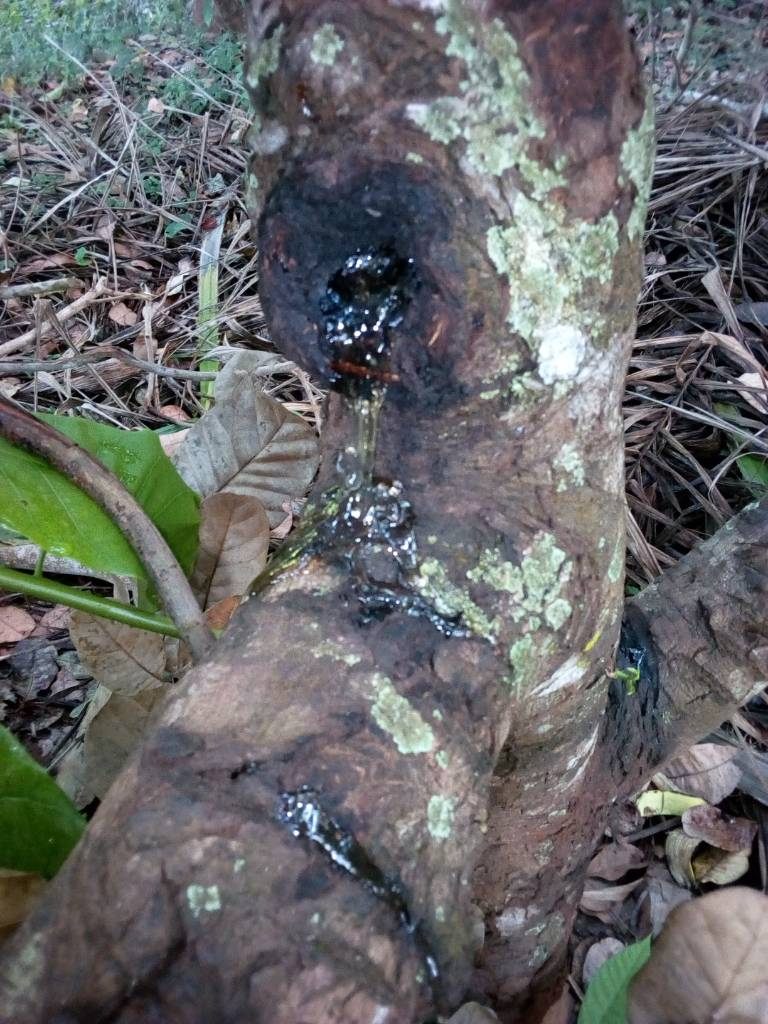Gommose: (254, 182, 458, 408), (249, 407, 441, 624), (286, 794, 440, 978), (619, 602, 658, 703)
